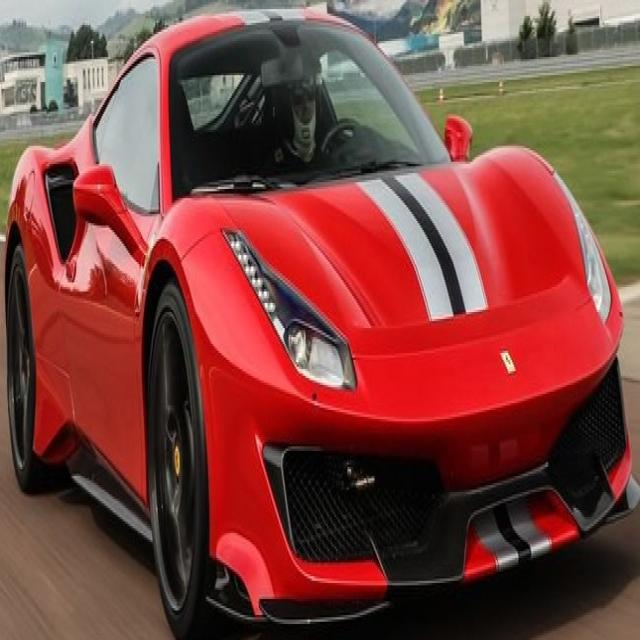red: (0, 4, 623, 640)
